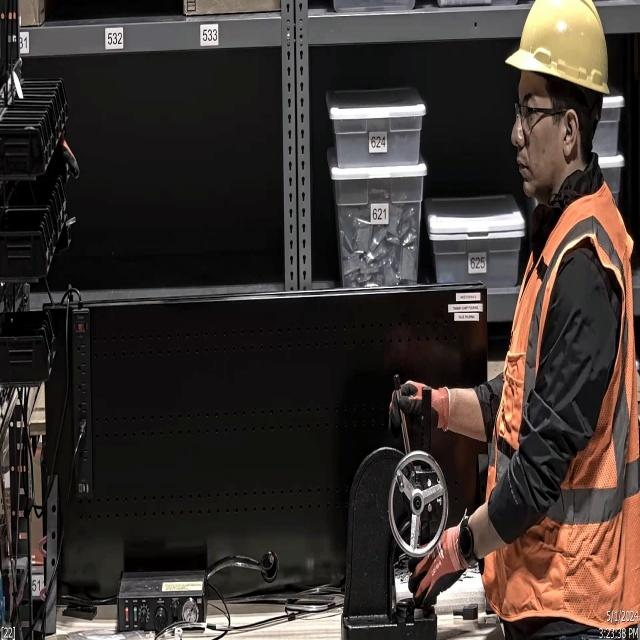gloves: (406, 516, 462, 618)
